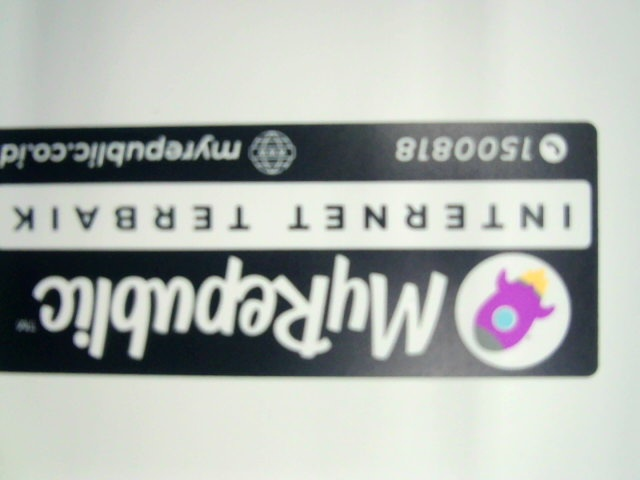BD_MyRepublic: (2, 121, 608, 379)
